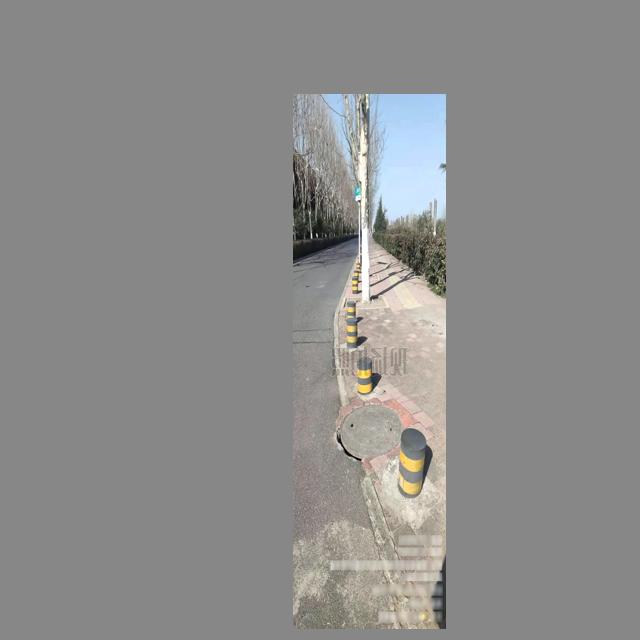circle: (335, 399, 405, 465)
